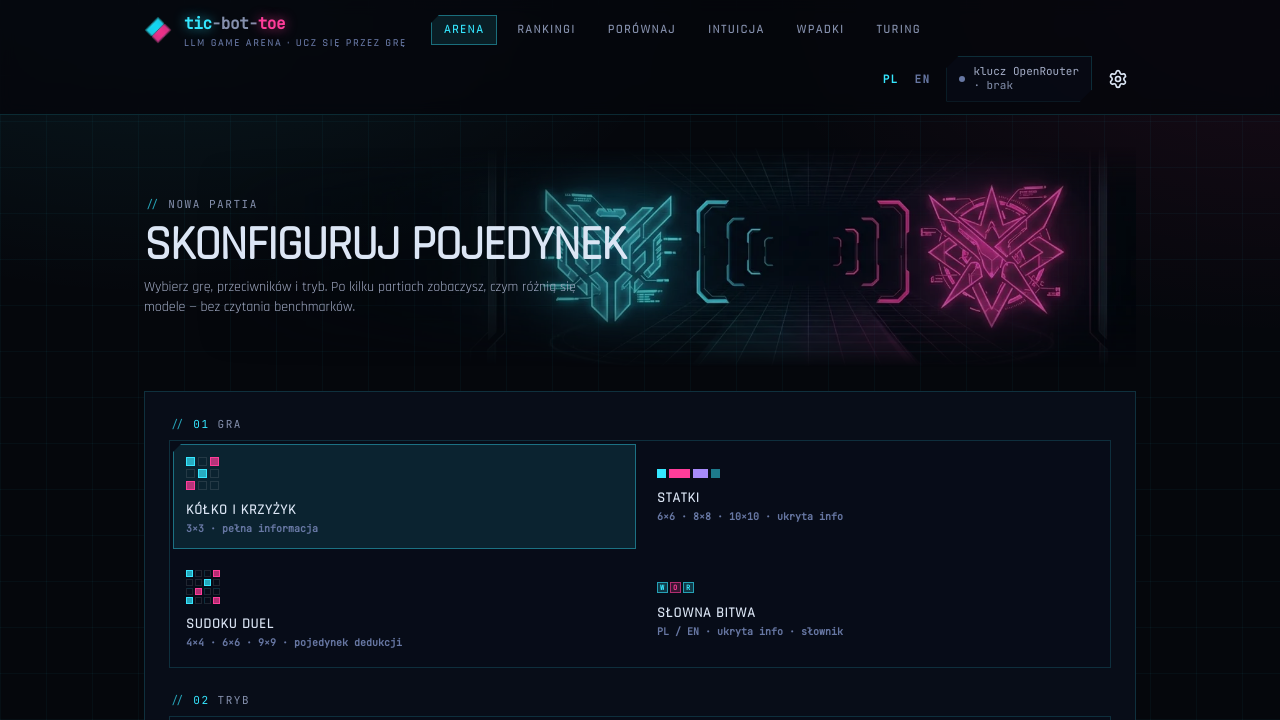
Test: App › opens settings and surfaces the local-only key notice
Click the button named "Ustawienia" at (1118, 79), box [1100,61,1136,97]
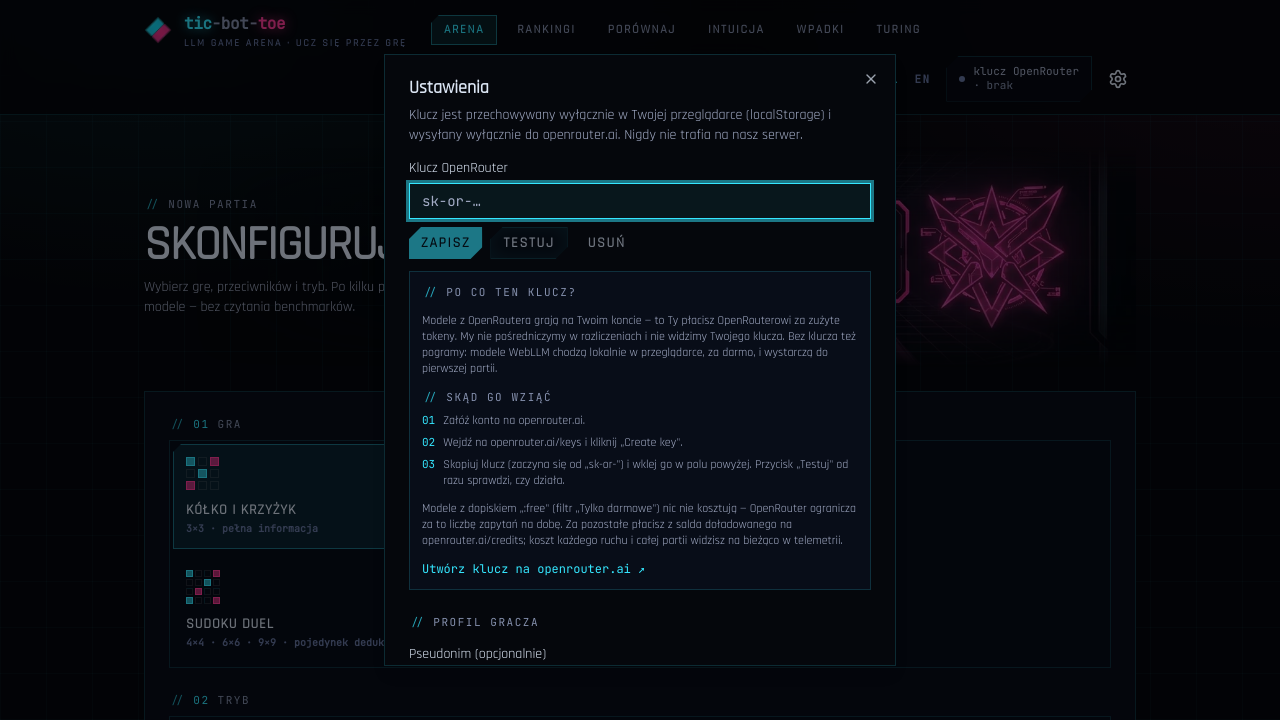
Check: the text "wyłącznie do openrouter.ai" is shown, box [409,106,831,144]
Check: the password field labelled "Klucz OpenRouter" is shown, box [409,183,871,219]
